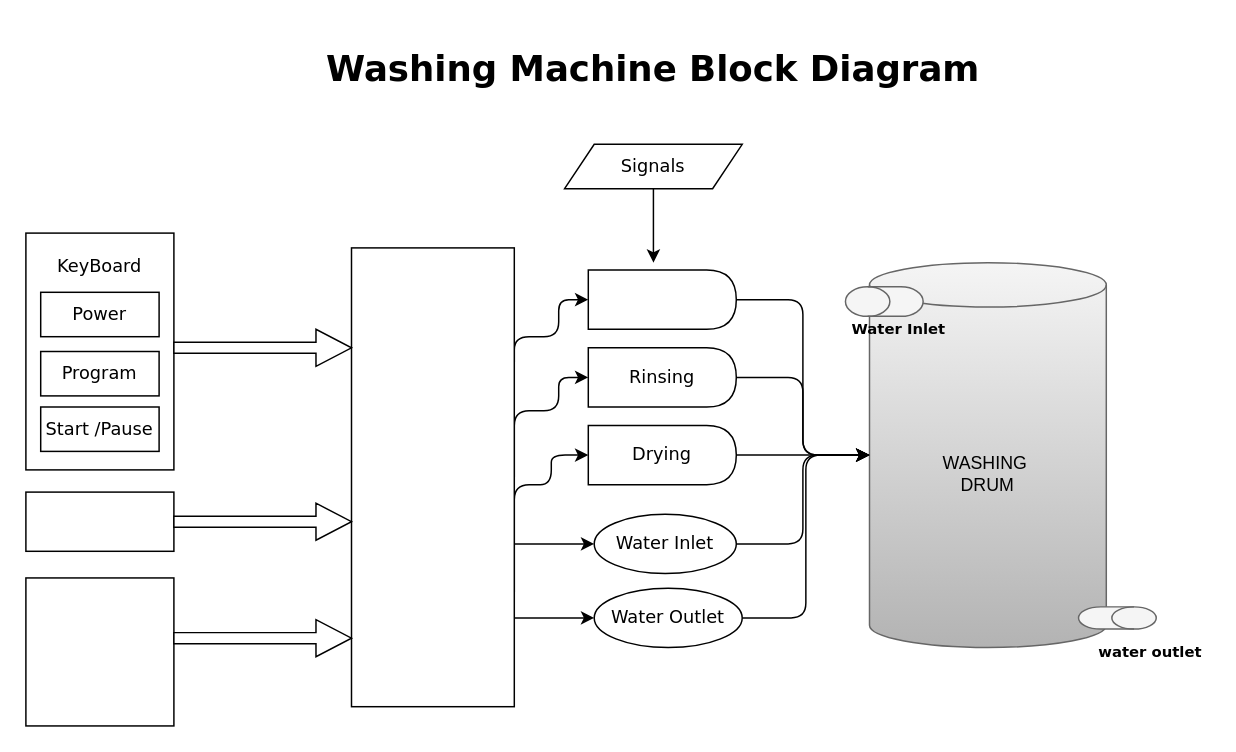
This 1236x752 diagram has some shape labels left out. The centre of each missing label's shape, as x and y in pixels:
MICROCONTROLLER: the point at 432,476
Sensor Signals ->Door ->Water ->Load ->Detergent: the point at 99,651
Washing: the point at 661,299
Water Level: the point at 99,521
